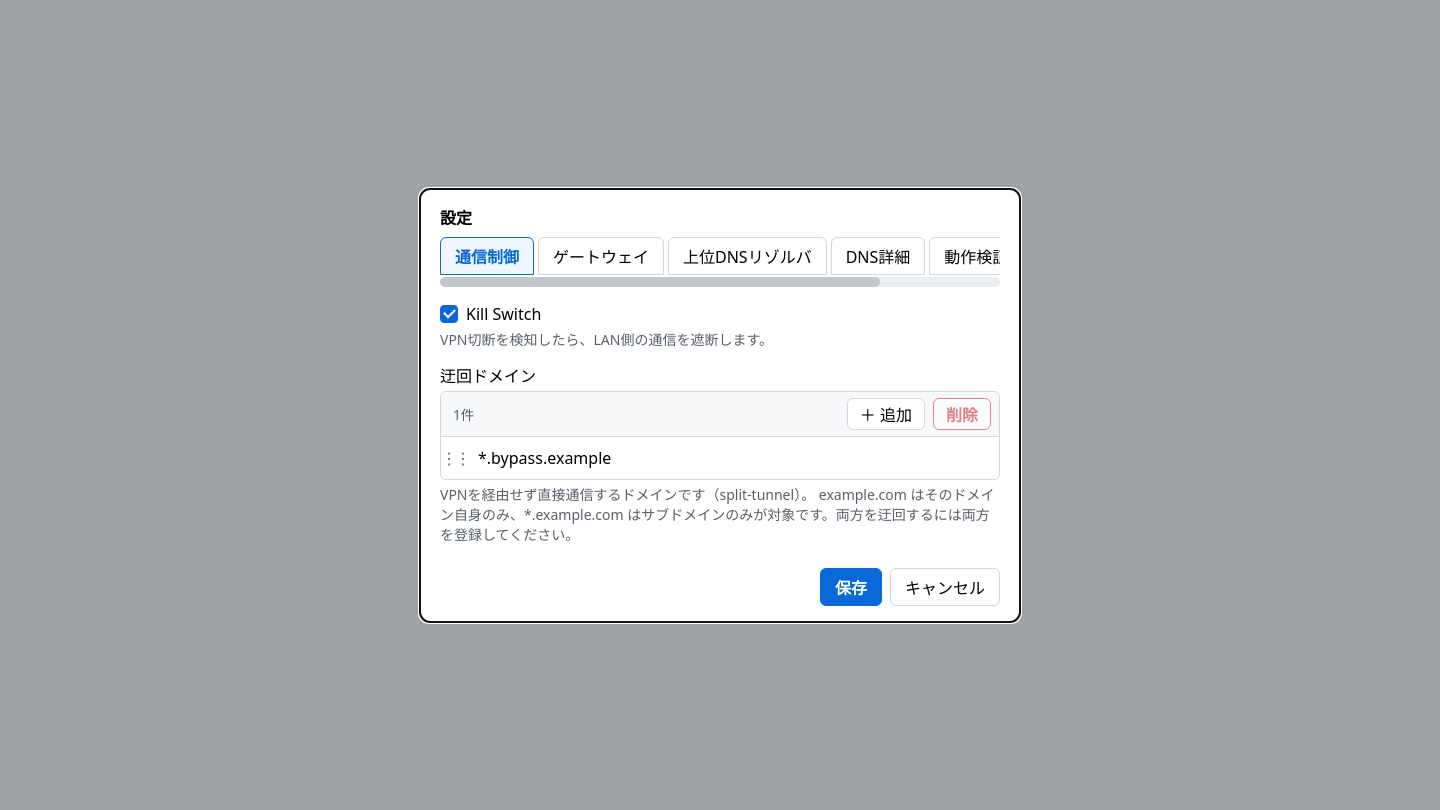
Test case: SettingsDialog: 動作検証タブ › 実行前は「検証を実行」と3つのグループ（未実行）を表示する
The width and height of the screenshot is (1440, 810).
Click the tab "動作検証" at [976, 256], box [929, 236, 1023, 274]
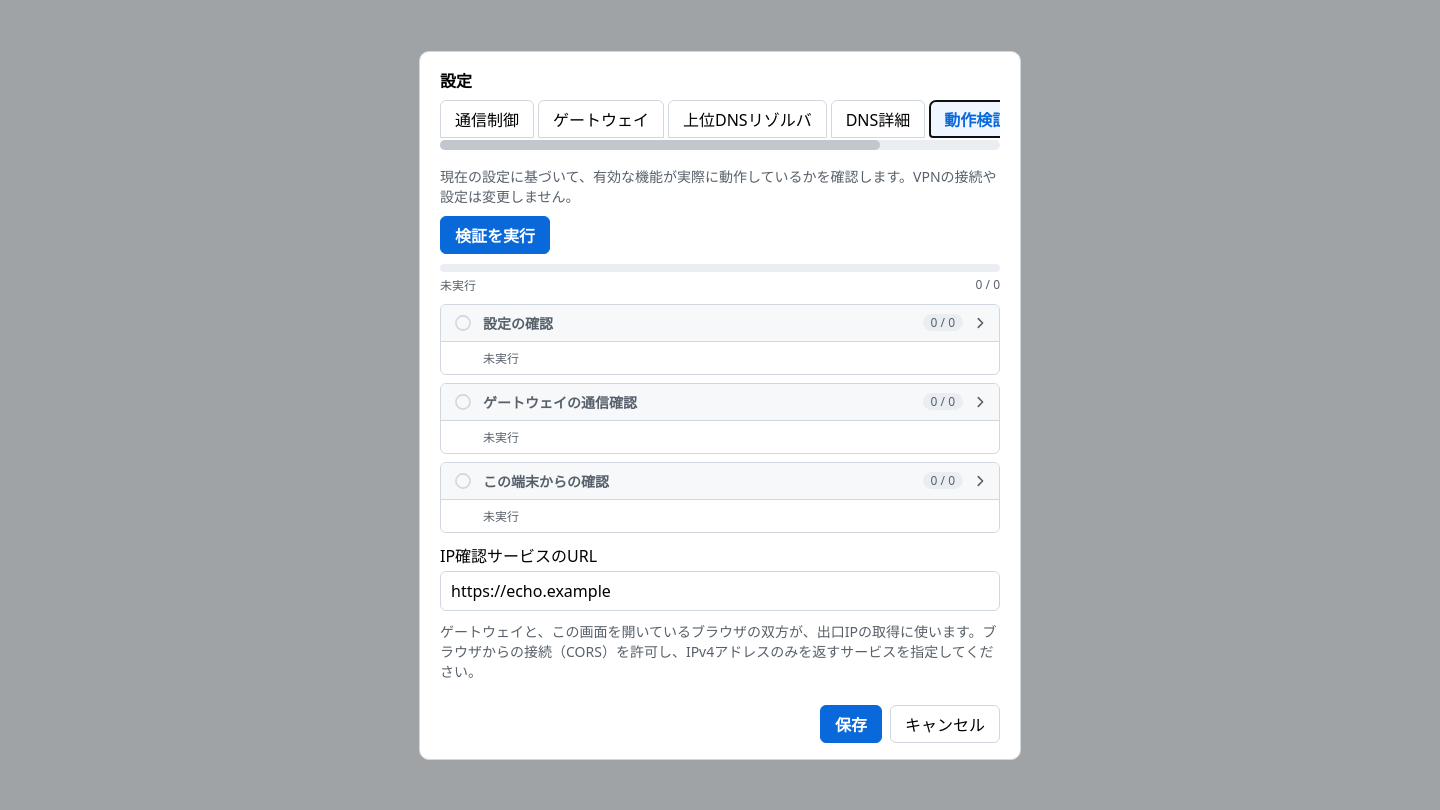
Now the button "検証を実行" is enabled, box [440, 216, 550, 254]
Now the 2nd text "未実行" is shown, box [483, 350, 519, 366]
Now the 3rd text "未実行" is shown, box [483, 428, 519, 446]
